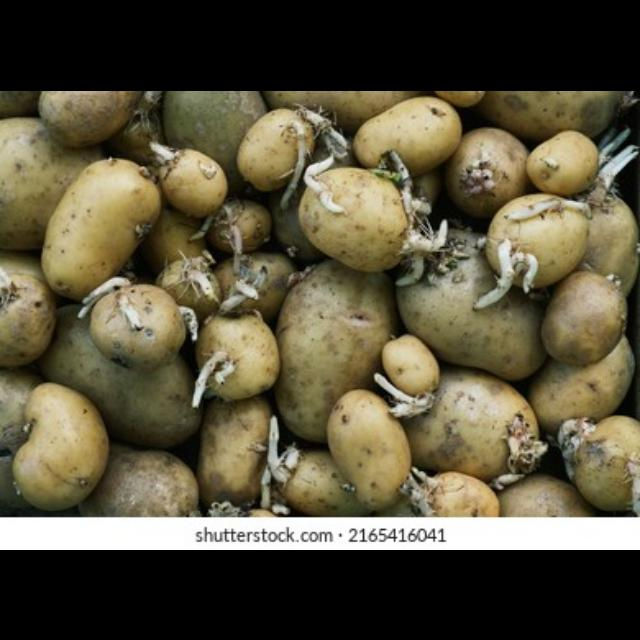Damaged potato: (30, 90, 138, 144)
Defected potato: (159, 90, 261, 160)
Potato: (21, 378, 104, 507)
Sprouted potato: (388, 212, 546, 380), (272, 251, 406, 447), (390, 359, 548, 486), (44, 152, 166, 304), (297, 152, 445, 272), (242, 423, 401, 517), (328, 380, 422, 508), (190, 291, 286, 407), (484, 190, 594, 290), (86, 270, 186, 380), (200, 393, 290, 515), (431, 117, 539, 210), (351, 95, 463, 182), (556, 414, 640, 508), (242, 102, 326, 192), (140, 132, 224, 218), (526, 123, 604, 199), (376, 329, 442, 416), (203, 249, 295, 311), (202, 190, 262, 250), (160, 252, 216, 316)
